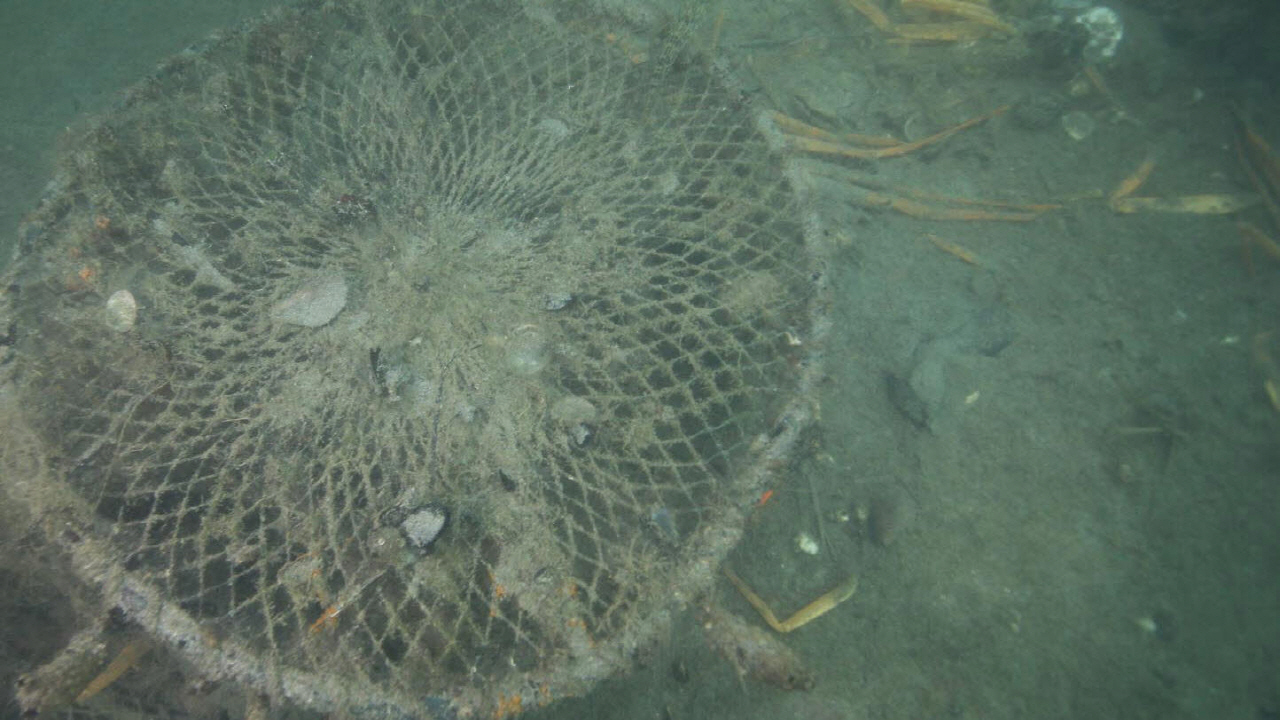circular fish trap: (0, 0, 831, 711)
